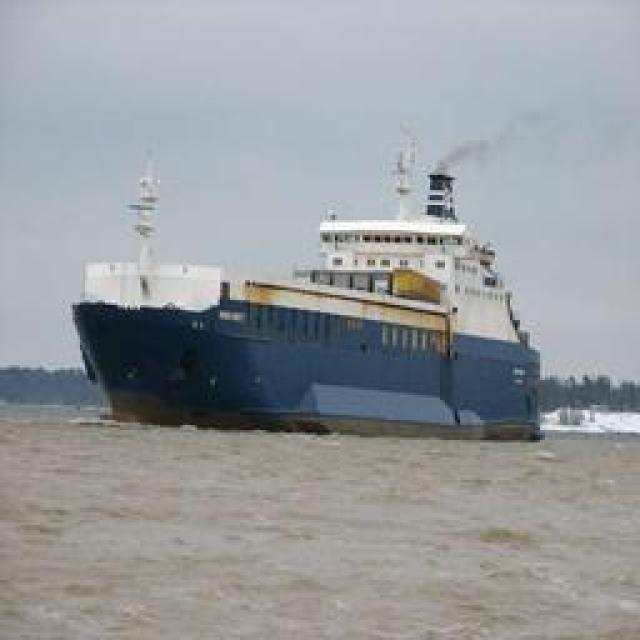CIV_Ship: (75, 140, 540, 425)
